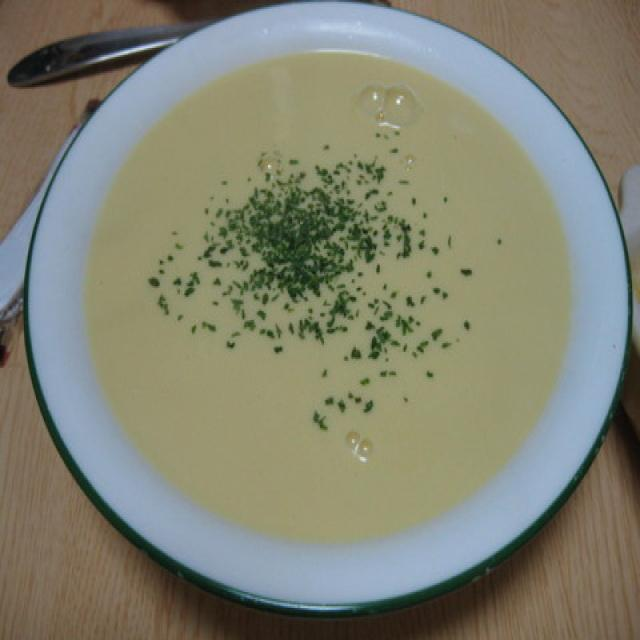汤锅炖物: (33, 21, 636, 614)
